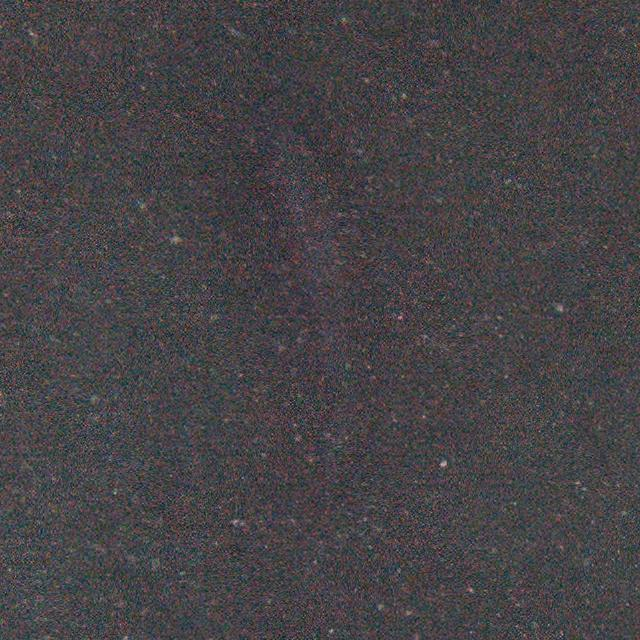roundfish: (258, 92, 374, 470)
